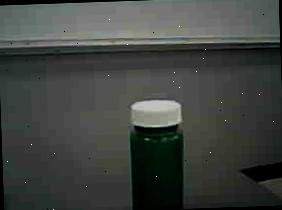Bottle C: (114, 93, 194, 210)
